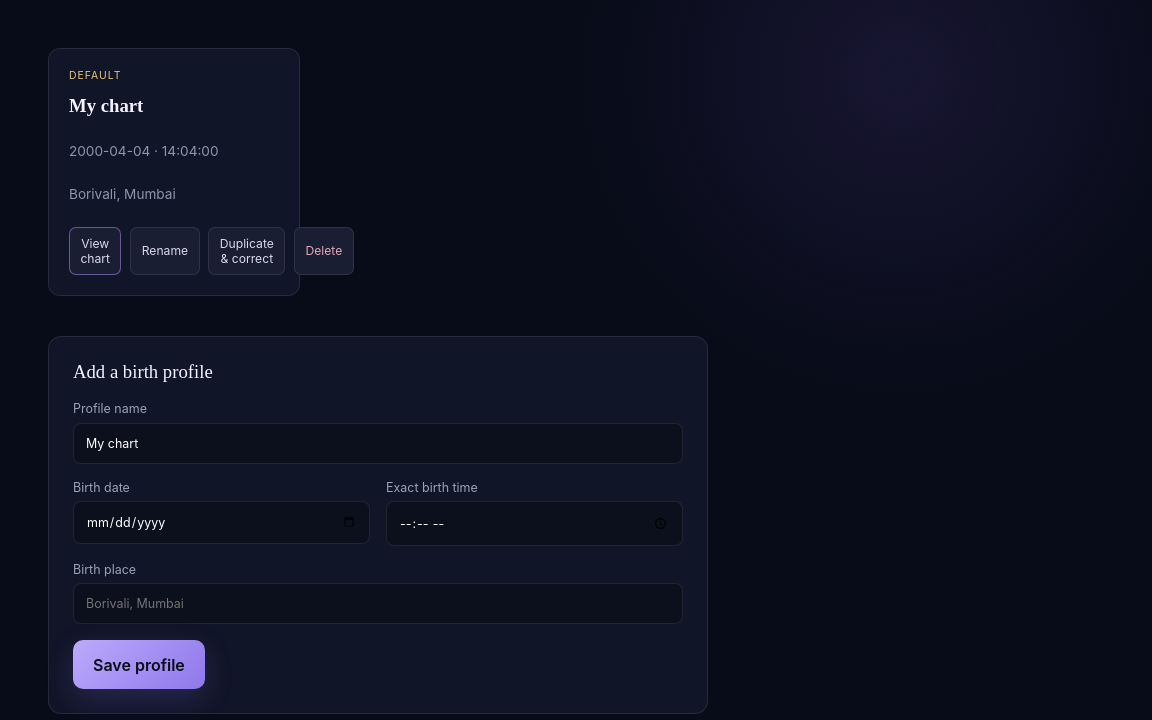
Test: birth profile correction workflow › duplicates a profile before applying corrected birth details
The width and height of the screenshot is (1152, 720).
Click the button "Duplicate & correct" at x=247, y=251, box 208,227 -> 285,274
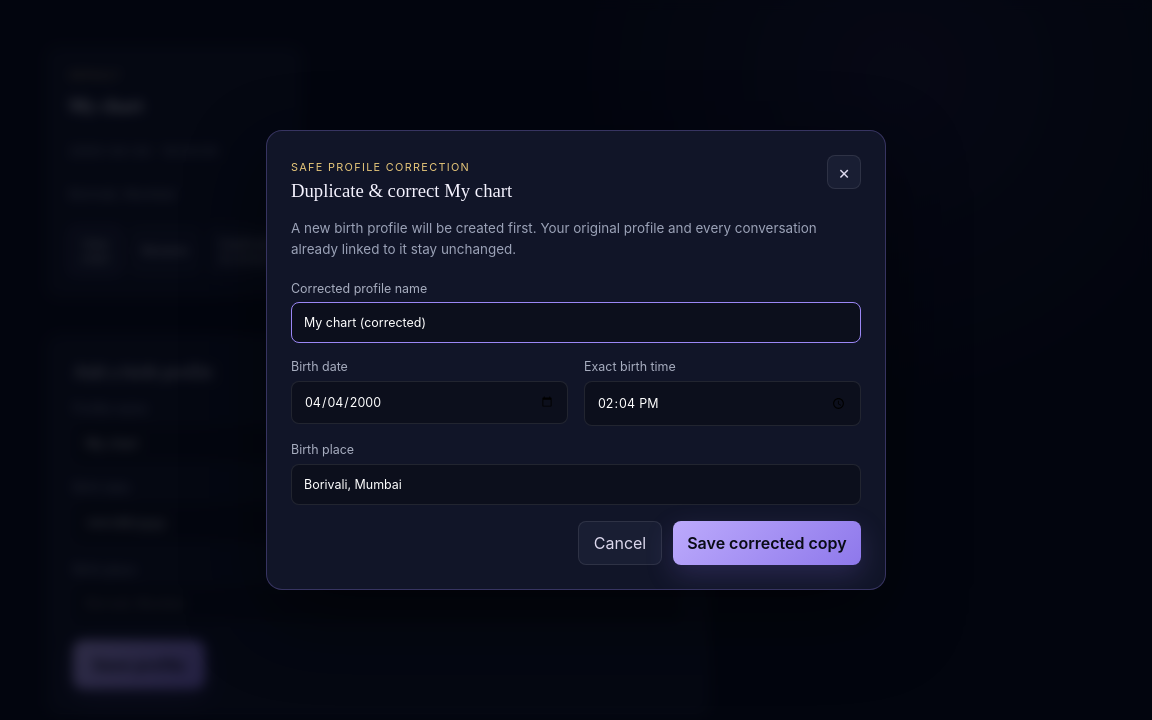
Replace the text in the field labelled "Corrected profile name" with "My chart corrected" at x=576, y=323, box 291,302 -> 861,343
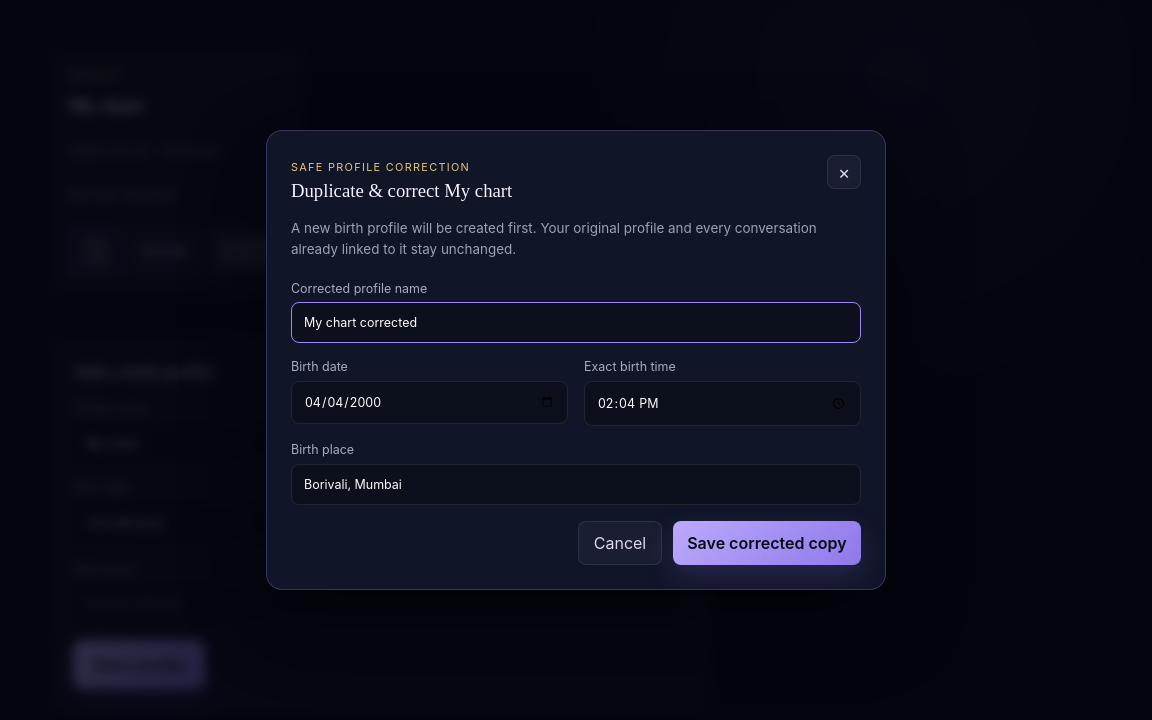
Replace the text in the time field named "Corrected birth time" with "14:06" at x=722, y=404, box 584,381 -> 861,426
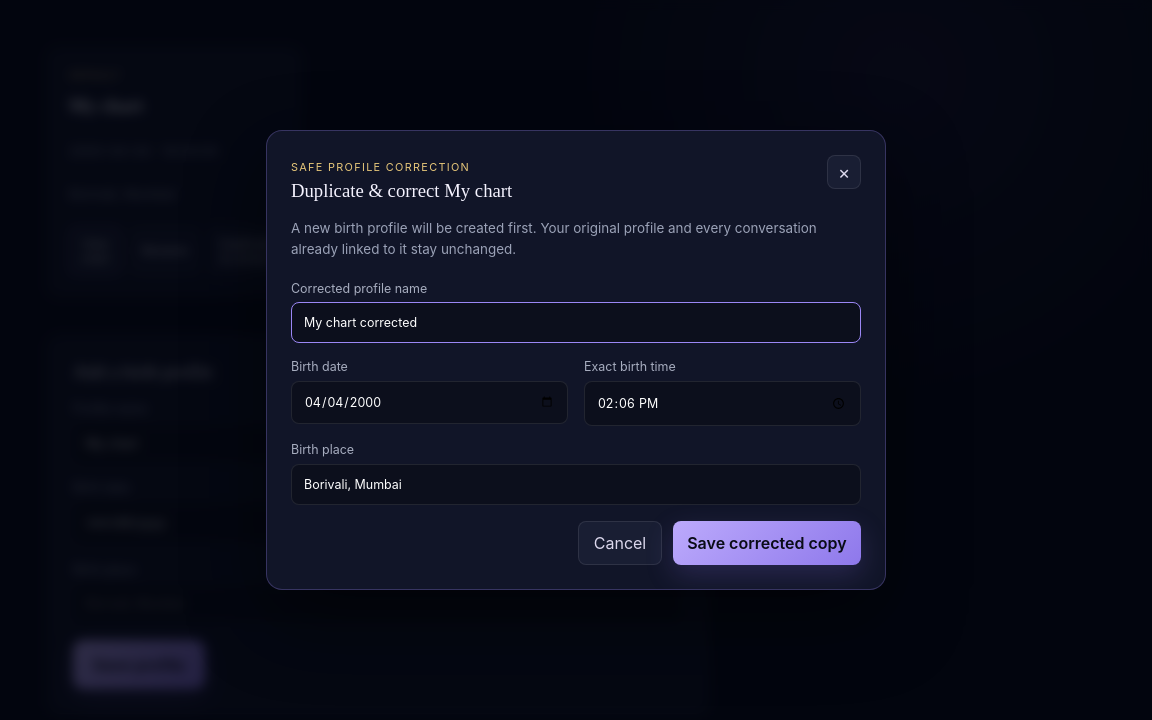
Click the button "Save corrected copy" at x=767, y=543, box 673,521 -> 861,565
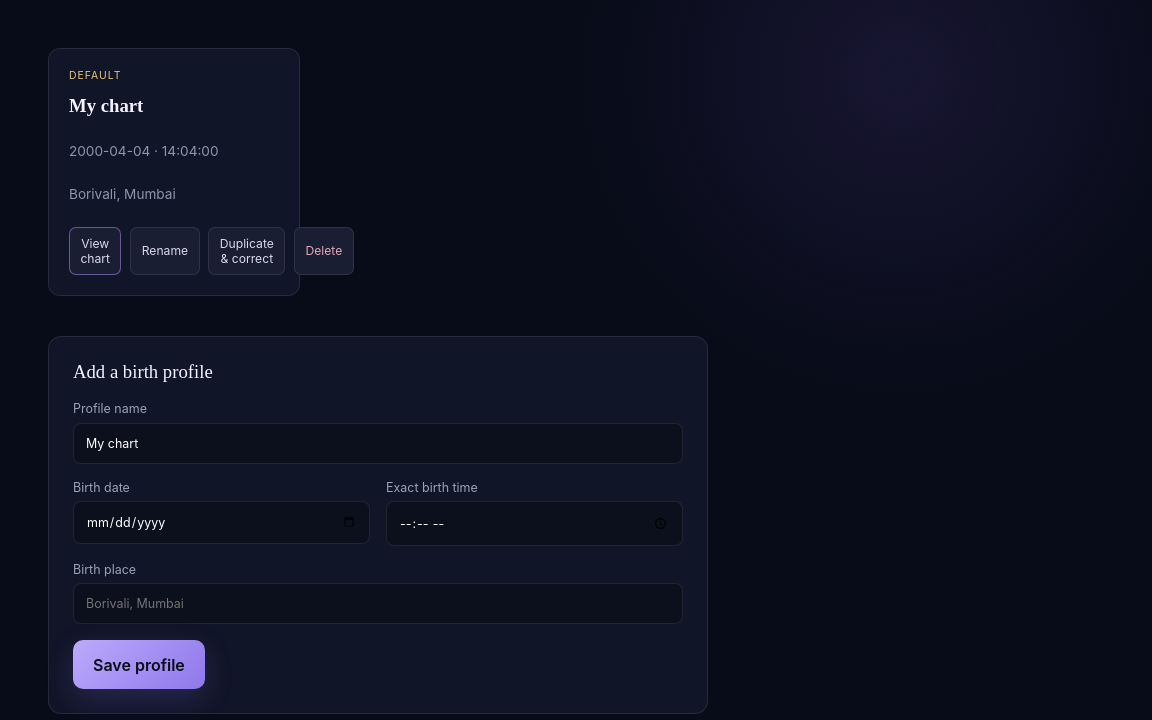
expect the dialog is gone: met
